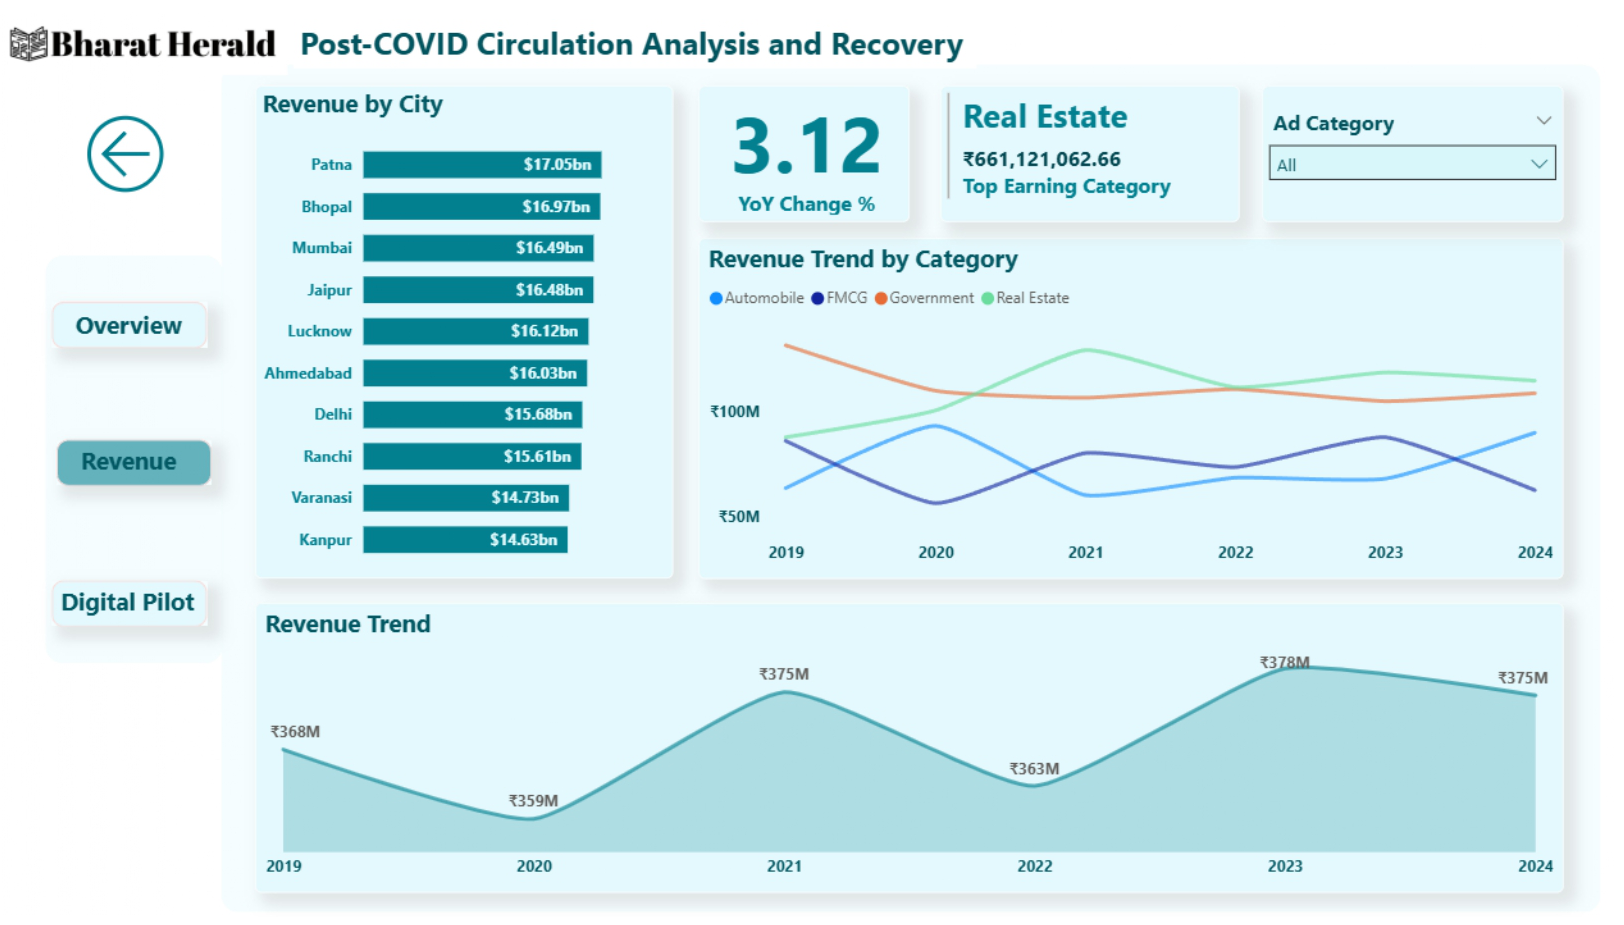

This screenshot's page, from the dashboard's own definition file:
{"tool":"powerbi","page":{"name":"Revenue","canvas":[1280,720],"ordinal":1},"visuals":[{"type":"group","id":"g1","title":"Group 1","box":[41.2,50,1214.6,661.7],"z":0},{"type":"shape","box":[41.2,198.9,138.5,318.6],"z":0,"group":"g1"},{"type":"shape","box":[179.2,50,1076.7,661.7],"z":1000,"group":"g1"},{"type":"shape","box":[46.8,452,121.2,36.4],"z":1000},{"type":"lineChart","title":"Revenue Trend","fields":{"Category":["bharat_herald vw_ad_revenue_by_category.year"],"Y":["Sum(bharat_herald vw_ad_revenue_by_category.total_revenue)"]},"box":[205,470,1021.7,226.7],"z":2000},{"type":"textbox","box":[43.3,451.7,123.3,36.7],"z":3000},{"type":"clusteredBarChart","title":"Revenue by City","fields":{"Category":["bharat_herald vw_city_level_revenue_performance.city"],"Y":["Sum(bharat_herald vw_city_level_revenue_performance.total_revenue)"]},"box":[205,66.7,326.7,385],"z":4000},{"type":"shape","box":[46.8,235.5,121.2,36.4],"z":5000},{"type":"textbox","box":[50.8,235,110,36.7],"z":6000},{"type":"shape","box":[50.2,342.9,121,36.4],"z":7000},{"type":"textbox","box":[51.2,341.2,112.5,37.5],"z":8000},{"type":"lineChart","title":"Revenue Trend by Category","fields":{"Series":["bharat_herald vw_ad_revenue_by_category.ad_category"],"Category":["bharat_herald vw_ad_revenue_by_category.year"],"Y":["Sum(bharat_herald vw_ad_revenue_by_category.total_revenue)"]},"box":[551.7,185,675,266.7],"z":9000},{"type":"card","fields":{"Values":["Avg(bharat_herald vw_ad_revenue_by_category.pct_yoy_change)"]},"box":[551.7,66.7,165,106.7],"z":10000},{"type":"multiRowCard","fields":{"Values":["bharat_herald vw_ad_revenue_by_category.ad_category","Sum(bharat_herald vw_ad_revenue_by_category.total_revenue)"]},"box":[740,66.7,233.3,106.7],"z":11000},{"type":"actionButton","box":[66.7,81.7,75,76.7],"z":12000},{"type":"actionButton","box":[58.8,343.8,105,31.2],"z":14000},{"type":"slicer","fields":{"Values":["bharat_herald vw_ad_revenue_by_category.ad_category"]},"box":[991.7,66.7,235,106.7],"z":15000},{"type":"image","box":[0,1.7,235,61.7],"z":16000},{"type":"actionButton","box":[63.3,456.7,95,25],"z":17000},{"type":"actionButton","box":[56.7,238.3,95,31.7],"z":18000},{"type":"textbox","box":[235,11.2,596.2,42.5],"z":19000}]}

Visuals, with their boxes in screenshot pixels (x1, y1, x2, y2), scaled from the page's 1280x720 canvas onto the 1624x925 screenshot:
"Group 1" group: x1=52 y1=64 x2=1593 y2=914
shape: x1=52 y1=256 x2=228 y2=665
shape: x1=227 y1=64 x2=1593 y2=914
shape: x1=59 y1=581 x2=213 y2=627
"Revenue Trend" lineChart: x1=260 y1=604 x2=1556 y2=895
textbox: x1=55 y1=580 x2=211 y2=627
"Revenue by City" clusteredBarChart: x1=260 y1=86 x2=675 y2=580
shape: x1=59 y1=303 x2=213 y2=349
textbox: x1=64 y1=302 x2=204 y2=349
shape: x1=64 y1=441 x2=217 y2=487
textbox: x1=65 y1=438 x2=208 y2=487
"Revenue Trend by Category" lineChart: x1=700 y1=238 x2=1556 y2=580
card - Avg(bharat_herald vw_ad_revenue_by_category.pct_yoy_change): x1=700 y1=86 x2=909 y2=223
multiRowCard - bharat_herald vw_ad_revenue_by_category.ad_category x Sum(bharat_herald vw_ad_revenue_by_category.total_revenue): x1=939 y1=86 x2=1235 y2=223
actionButton: x1=85 y1=105 x2=180 y2=204
actionButton: x1=75 y1=442 x2=208 y2=482
slicer - bharat_herald vw_ad_revenue_by_category.ad_category: x1=1258 y1=86 x2=1556 y2=223
image: x1=0 y1=2 x2=298 y2=81
actionButton: x1=80 y1=587 x2=201 y2=619
actionButton: x1=72 y1=306 x2=192 y2=347
textbox: x1=298 y1=14 x2=1055 y2=69
